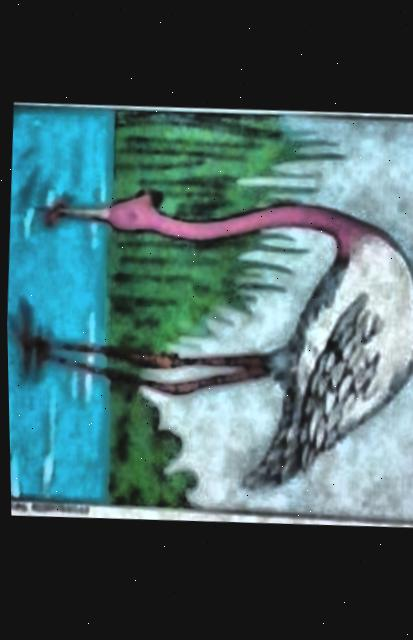El Garza: (5, 107, 413, 522)
